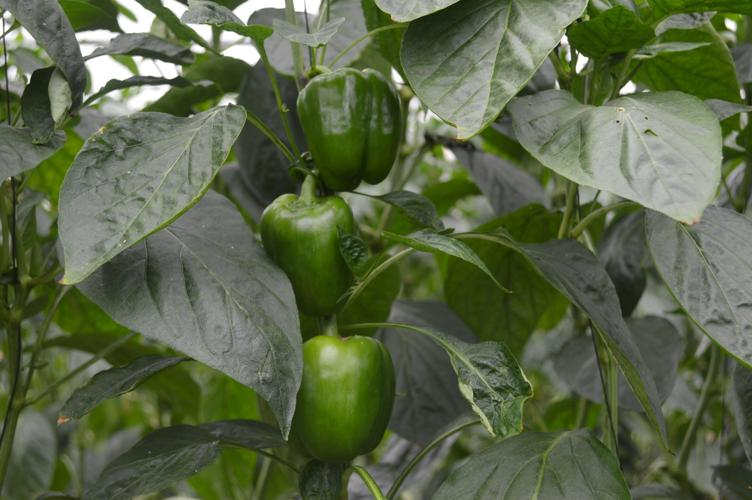BellPepper: (288, 332, 399, 457), (295, 66, 398, 188), (257, 191, 355, 316)
